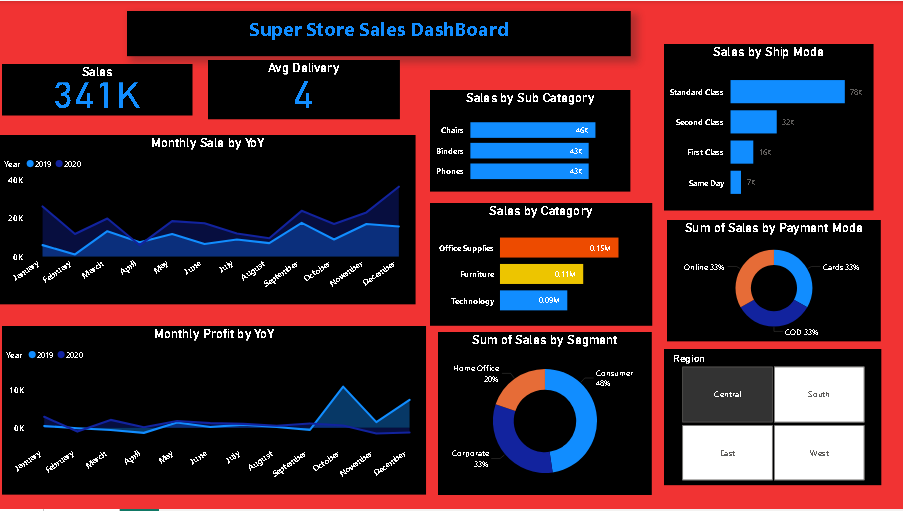

Layout of this report page (visuals, bound fields, positions):
{"tool":"powerbi","page":{"name":"Page 1","canvas":[1280,720],"ordinal":0},"visuals":[{"type":"clusteredBarChart","title":"Sales by Category","fields":{"Category":["Sheet1 (2).Category"],"Y":["Sum(Sheet1 (2).Sales)"]},"box":[609.7,286.8,314.7,173.7],"z":0},{"type":"clusteredBarChart","title":"Sales by Sub Category","fields":{"Category":["Sheet1 (2).Sub-Category"],"Y":["Sum(Sheet1 (2).Sales)"]},"box":[609.7,126.2,283.5,144.2],"z":1000},{"type":"clusteredBarChart","title":"Sales by Ship Mode","fields":{"Category":["Sheet1 (2).Ship Mode"],"Y":["Sum(Sheet1 (2).Sales)"]},"box":[940.7,60.6,296.6,236],"z":2000},{"type":"areaChart","title":"Monthly Sale by YoY","fields":{"Y":["Sum(Sheet1 (2).Sales)"],"Category":["Sheet1 (2).Order Date.Variation.Date Hierarchy.Month","Sheet1 (2).Order Date.Variation.Date Hierarchy.Day"],"Series":["Sheet1 (2).Order Date.Variation.Date Hierarchy.Year"]},"box":[0,189.8,588.6,240.3],"z":3000},{"type":"areaChart","title":"Monthly Profit by YoY","fields":{"Category":["Sheet1 (2).Order Date.Variation.Date Hierarchy.Month","Sheet1 (2).Order Date.Variation.Date Hierarchy.Day"],"Series":["Sheet1 (2).Order Date.Variation.Date Hierarchy.Year"],"Y":["Sum(Sheet1 (2).Profit)"]},"box":[3.3,460.5,601.5,239.3],"z":4000},{"type":"donutChart","fields":{"Category":["Sheet1 (2).Segment"],"Y":["Sum(Sheet1 (2).Sales)"]},"box":[621.2,468.7,303.2,231.1],"z":5000},{"type":"slicer","fields":{"Values":["Sheet1 (2).Region"]},"box":[940.7,493.3,308.1,193.4],"z":6000},{"type":"textbox","box":[179.4,13.9,714,64.4],"z":7000},{"type":"card","title":"Sales","fields":{"Values":["Sum(Sheet1 (2).Sales)"]},"box":[3.5,88.8,269.9,73.1],"z":8000},{"type":"card","title":"Avg Delivery","fields":{"Values":["Avg(Sheet1.AvgDelivery)"]},"box":[294.3,83.6,271.7,83.6],"z":9000},{"type":"donutChart","fields":{"Category":["Sheet1.Payment Mode"],"Y":["Sum(Sheet1 (2).Sales)"]},"box":[945.7,309.8,303.2,172.1],"z":10000}]}

Visuals, with their boxes in screenshot pixels (x1, y1, x2, y2), scaled from the page's 1280x720 canvas onto the 903x511 screenshot:
"Sales by Category" clusteredBarChart: Rect(430, 204, 652, 327)
"Sales by Sub Category" clusteredBarChart: Rect(430, 90, 630, 192)
"Sales by Ship Mode" clusteredBarChart: Rect(664, 43, 873, 211)
"Monthly Sale by YoY" areaChart: Rect(0, 135, 415, 305)
"Monthly Profit by YoY" areaChart: Rect(2, 327, 427, 497)
donutChart - Sheet1 (2).Segment x Sum(Sheet1 (2).Sales): Rect(438, 333, 652, 497)
slicer - Sheet1 (2).Region: Rect(664, 350, 881, 487)
textbox: Rect(127, 10, 630, 56)
"Sales" card: Rect(2, 63, 193, 115)
"Avg Delivery" card: Rect(208, 59, 399, 119)
donutChart - Sheet1.Payment Mode x Sum(Sheet1 (2).Sales): Rect(667, 220, 881, 342)
